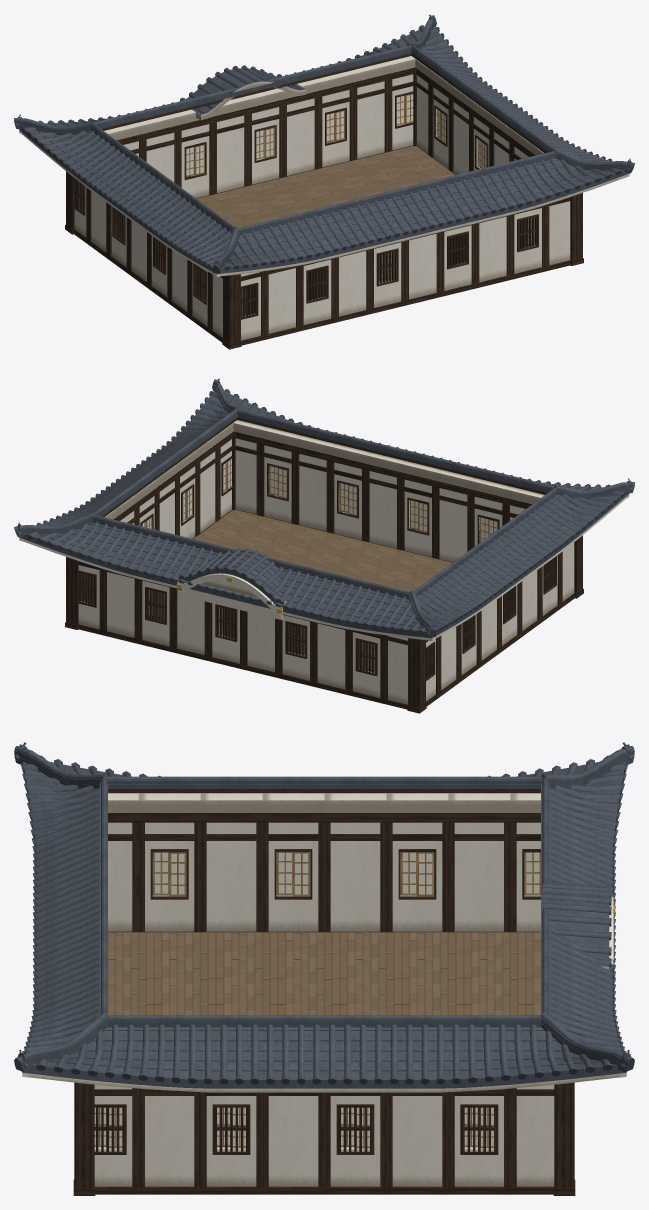
The model's file is HO_Castle_Keep_Tier1.fbx.
3 views of the same model, one above another, from view 1: azimuth 30°, elevation 25°; view 2: azimuth 150°, elevation 25°; view 3: azimuth 270°, elevation 25° (orthographic). The views are drawn at different scales.
Visible parts, largest first — view 1: HO_Castle_Keep_Tier1_RoofTiles, HO_Castle_Keep_Tier1_Walls__Plaster_White, HO_Castle_Keep_Tier1_Walls__Timber_Dark, HO_Castle_Keep_Tier1_Walls__Wood_Planks, HO_Castle_Keep_Tier1_RoofFrame__Plaster_White, HO_Castle_Keep_Tier1_Walls__Shoji_Paper, HO_Castle_Keep_Tier1_Walls__Timber_Light, HO_Castle_Keep_Tier1_Gable__RoofTile_Clay, HO_Castle_Keep_Tier1_RoofFrame__Timber_Dark, HO_Castle_Keep_Tier1_Gable__Plaster_White; view 2: HO_Castle_Keep_Tier1_RoofTiles, HO_Castle_Keep_Tier1_Walls__Plaster_White, HO_Castle_Keep_Tier1_Walls__Timber_Dark, HO_Castle_Keep_Tier1_Walls__Wood_Planks, HO_Castle_Keep_Tier1_RoofFrame__Plaster_White, HO_Castle_Keep_Tier1_Gable__RoofTile_Clay, HO_Castle_Keep_Tier1_Walls__Shoji_Paper, HO_Castle_Keep_Tier1_Walls__Timber_Light, HO_Castle_Keep_Tier1_Gable__Plaster_White, HO_Castle_Keep_Tier1_RoofFrame__Timber_Dark; view 3: HO_Castle_Keep_Tier1_RoofTiles, HO_Castle_Keep_Tier1_Walls__Plaster_White, HO_Castle_Keep_Tier1_Walls__Timber_Dark, HO_Castle_Keep_Tier1_Walls__Wood_Planks, HO_Castle_Keep_Tier1_RoofFrame__Plaster_White, HO_Castle_Keep_Tier1_Walls__Shoji_Paper, HO_Castle_Keep_Tier1_Walls__Timber_Light, HO_Castle_Keep_Tier1_Gable__RoofTile_Clay, HO_Castle_Keep_Tier1_RoofFrame__Timber_Dark.
Boxes of the visible parts, x1,y1,x2,y2 form: HO_Castle_Keep_Tier1_RoofTiles: (14, 14, 634, 274); HO_Castle_Keep_Tier1_Walls__Plaster_White: (74, 74, 570, 340); HO_Castle_Keep_Tier1_Walls__Timber_Dark: (65, 67, 583, 349); HO_Castle_Keep_Tier1_Walls__Wood_Planks: (196, 146, 454, 227); HO_Castle_Keep_Tier1_RoofFrame__Plaster_White: (19, 56, 629, 276); HO_Castle_Keep_Tier1_Walls__Shoji_Paper: (186, 94, 531, 312); HO_Castle_Keep_Tier1_Walls__Timber_Light: (186, 93, 534, 313); HO_Castle_Keep_Tier1_Gable__RoofTile_Clay: (180, 65, 305, 114); HO_Castle_Keep_Tier1_RoofFrame__Timber_Dark: (101, 53, 546, 153); HO_Castle_Keep_Tier1_Gable__Plaster_White: (195, 81, 306, 120); HO_Castle_Keep_Tier1_RoofTiles: (14, 378, 634, 638); HO_Castle_Keep_Tier1_Walls__Plaster_White: (78, 438, 574, 704); HO_Castle_Keep_Tier1_Walls__Timber_Dark: (65, 431, 583, 713); HO_Castle_Keep_Tier1_Walls__Wood_Planks: (194, 510, 452, 591); HO_Castle_Keep_Tier1_RoofFrame__Plaster_White: (19, 420, 629, 640); HO_Castle_Keep_Tier1_Gable__RoofTile_Clay: (178, 548, 287, 604); HO_Castle_Keep_Tier1_Walls__Shoji_Paper: (142, 459, 496, 669); HO_Castle_Keep_Tier1_Walls__Timber_Light: (142, 458, 497, 670); HO_Castle_Keep_Tier1_Gable__Plaster_White: (177, 573, 286, 619); HO_Castle_Keep_Tier1_RoofFrame__Timber_Dark: (102, 417, 547, 517); HO_Castle_Keep_Tier1_RoofTiles: (14, 742, 634, 1088); HO_Castle_Keep_Tier1_Walls__Plaster_White: (94, 822, 554, 1186); HO_Castle_Keep_Tier1_Walls__Timber_Dark: (73, 813, 575, 1195); HO_Castle_Keep_Tier1_Walls__Wood_Planks: (108, 932, 540, 1015); HO_Castle_Keep_Tier1_RoofFrame__Plaster_White: (22, 770, 626, 1092); HO_Castle_Keep_Tier1_Walls__Shoji_Paper: (94, 852, 539, 1146); HO_Castle_Keep_Tier1_Walls__Timber_Light: (94, 852, 540, 1148); HO_Castle_Keep_Tier1_Gable__RoofTile_Clay: (541, 882, 611, 967); HO_Castle_Keep_Tier1_RoofFrame__Timber_Dark: (108, 789, 540, 792).
Size of the model in its own units: 48.1 by 12.3 by 40.1.
